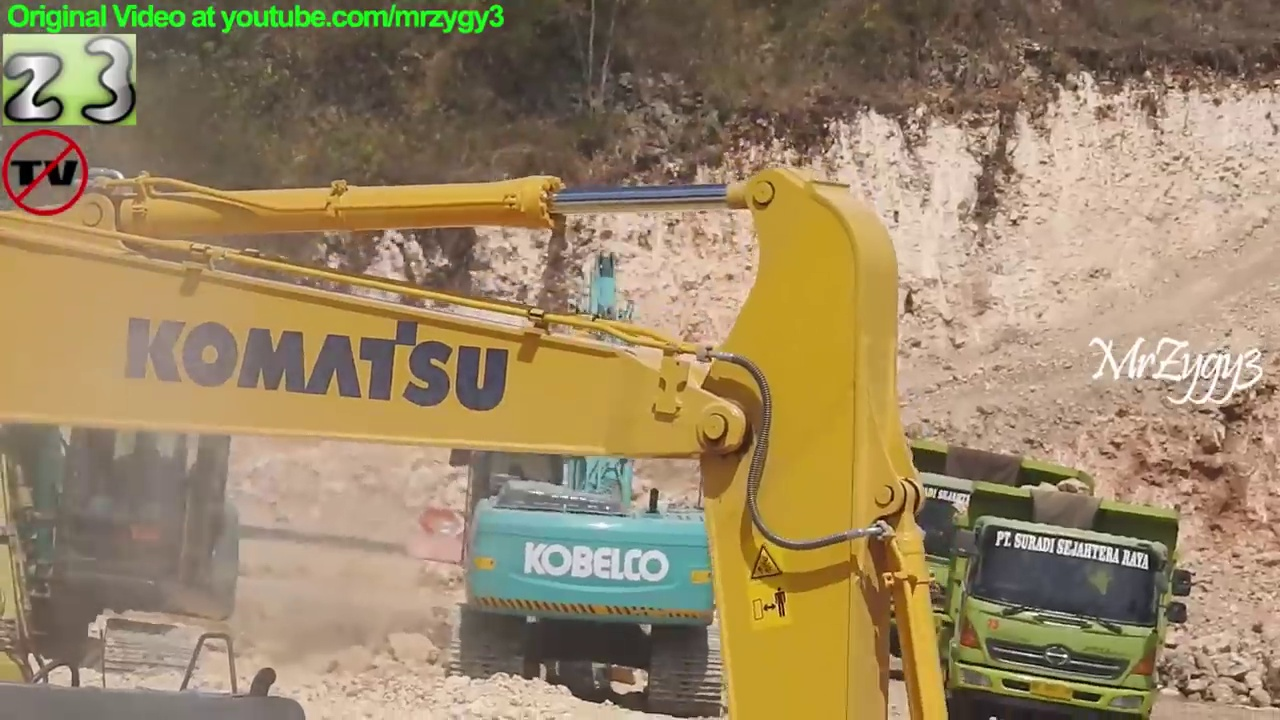excavator: (1, 164, 960, 720), (438, 244, 734, 720), (1, 158, 253, 685)
truck: (850, 426, 1106, 700), (944, 475, 1196, 720)
